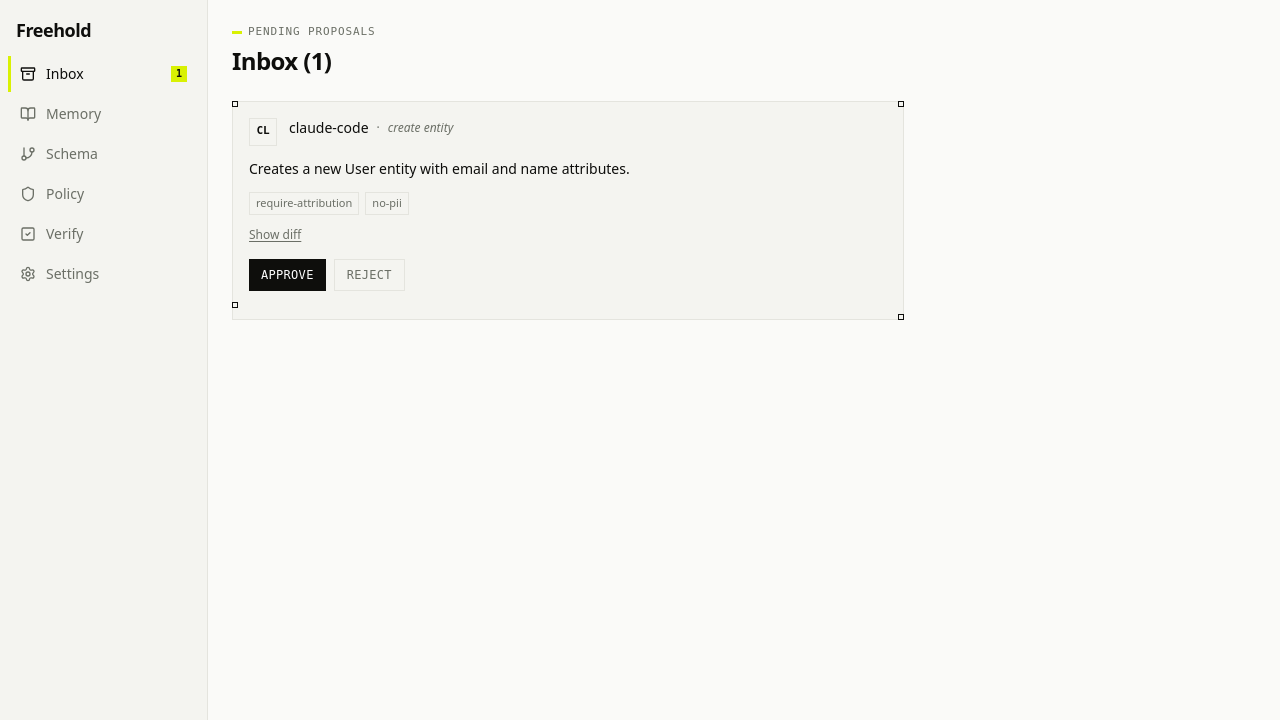
Scenario: Inbox › diff toggle shows aria-expanded attribute
Click the button "Show diff". click: (275, 235)
box: [249,227,301,243]
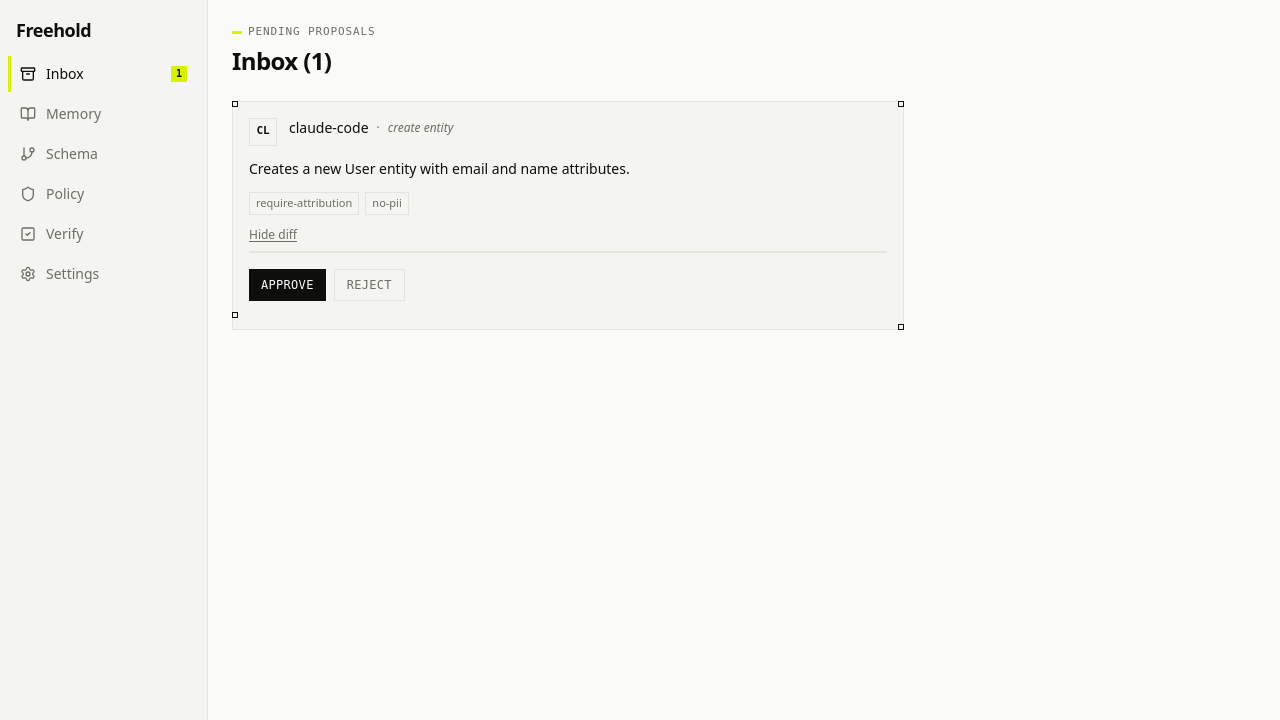
Now the button named "show diff" is expanded, box [249,227,297,243]
